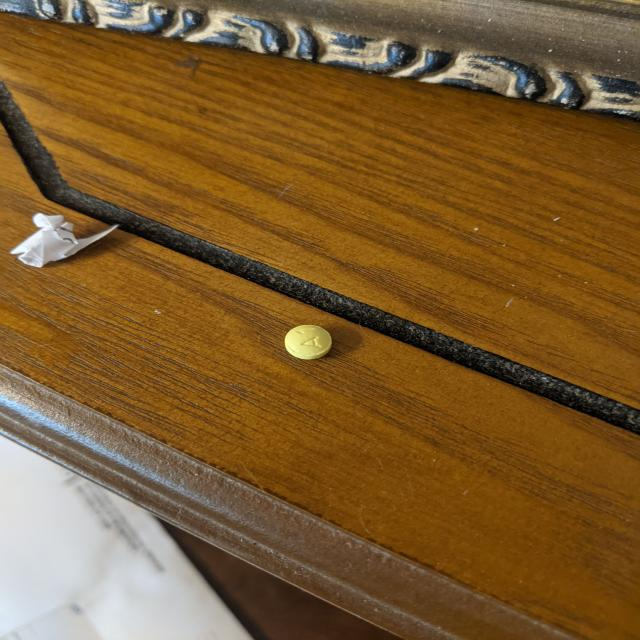non-organic waste: (284, 323, 332, 360)
